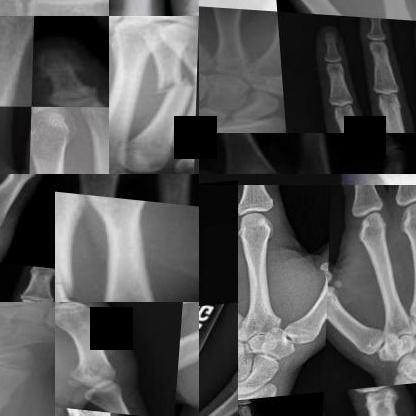fracture: (55, 192, 86, 300), (0, 339, 53, 379), (199, 108, 284, 132), (153, 68, 194, 105), (55, 302, 78, 333), (0, 70, 16, 106), (188, 51, 198, 87)
